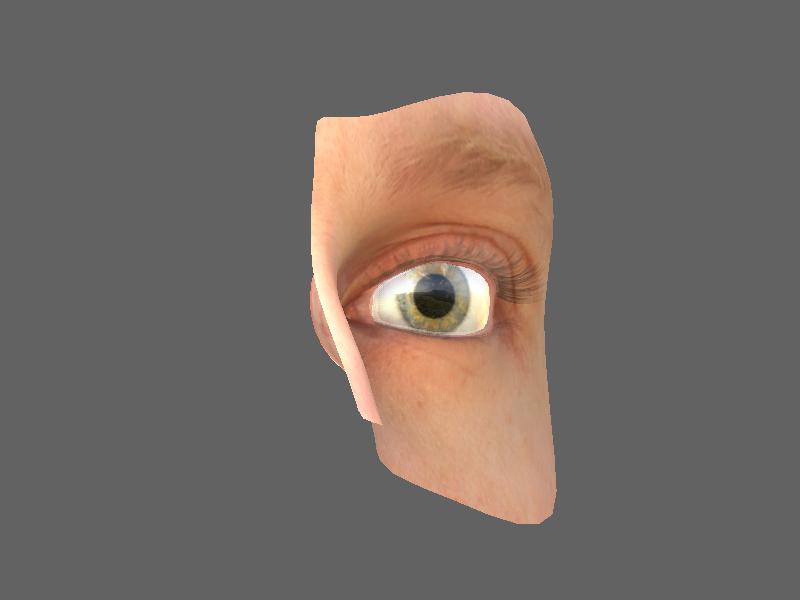iris: (394, 263, 471, 334)
